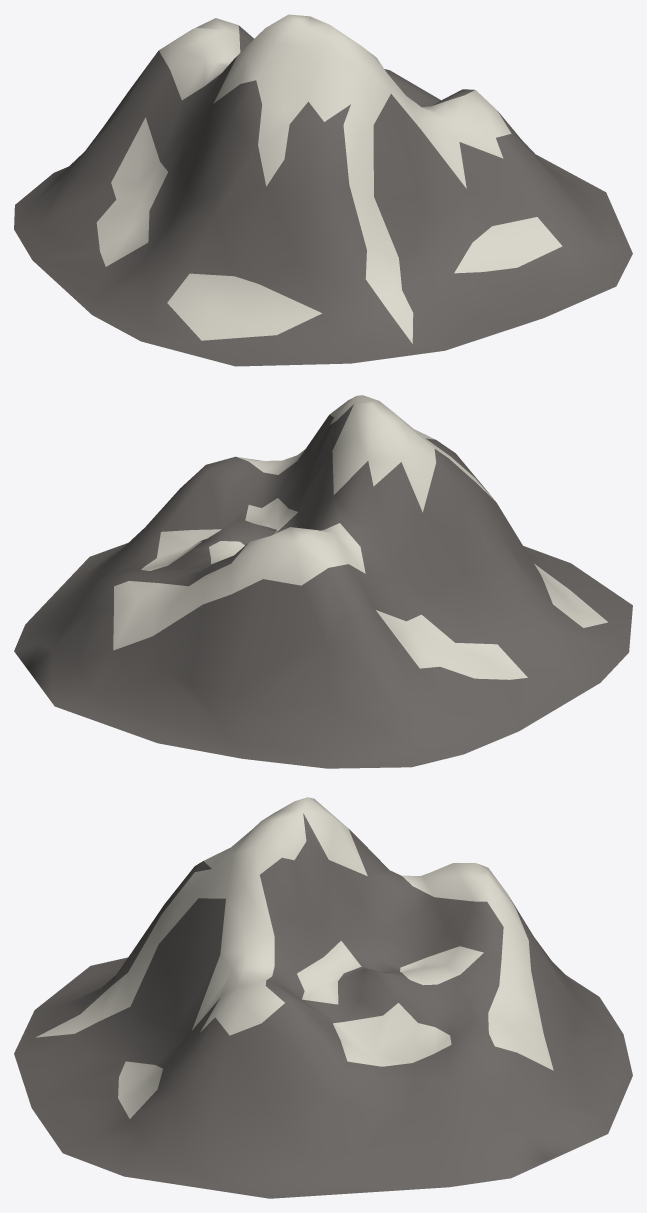
Rendered from rpgpp_ag_mountain_02.fbx.
The picture shows the model from 3 angles, top to bottom: view 1: azimuth 30°, elevation 25°; view 2: azimuth 150°, elevation 25°; view 3: azimuth 270°, elevation 25°; orthographic projection. The views are drawn at different scales.
Parts seen in each view (by area): view 1: rpgpp_ag_mountain_02; view 2: rpgpp_ag_mountain_02; view 3: rpgpp_ag_mountain_02.
Part boxes in pixels (bbox=[...]): rpgpp_ag_mountain_02: bbox=[14, 14, 632, 366]; rpgpp_ag_mountain_02: bbox=[14, 395, 632, 768]; rpgpp_ag_mountain_02: bbox=[14, 797, 632, 1198].
Size of the model in its own units: 160 by 71.15 by 160.
